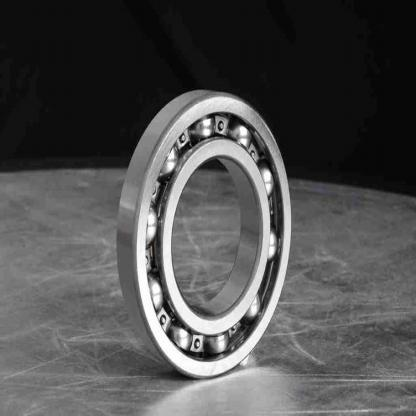FOD: (115, 83, 293, 384)
